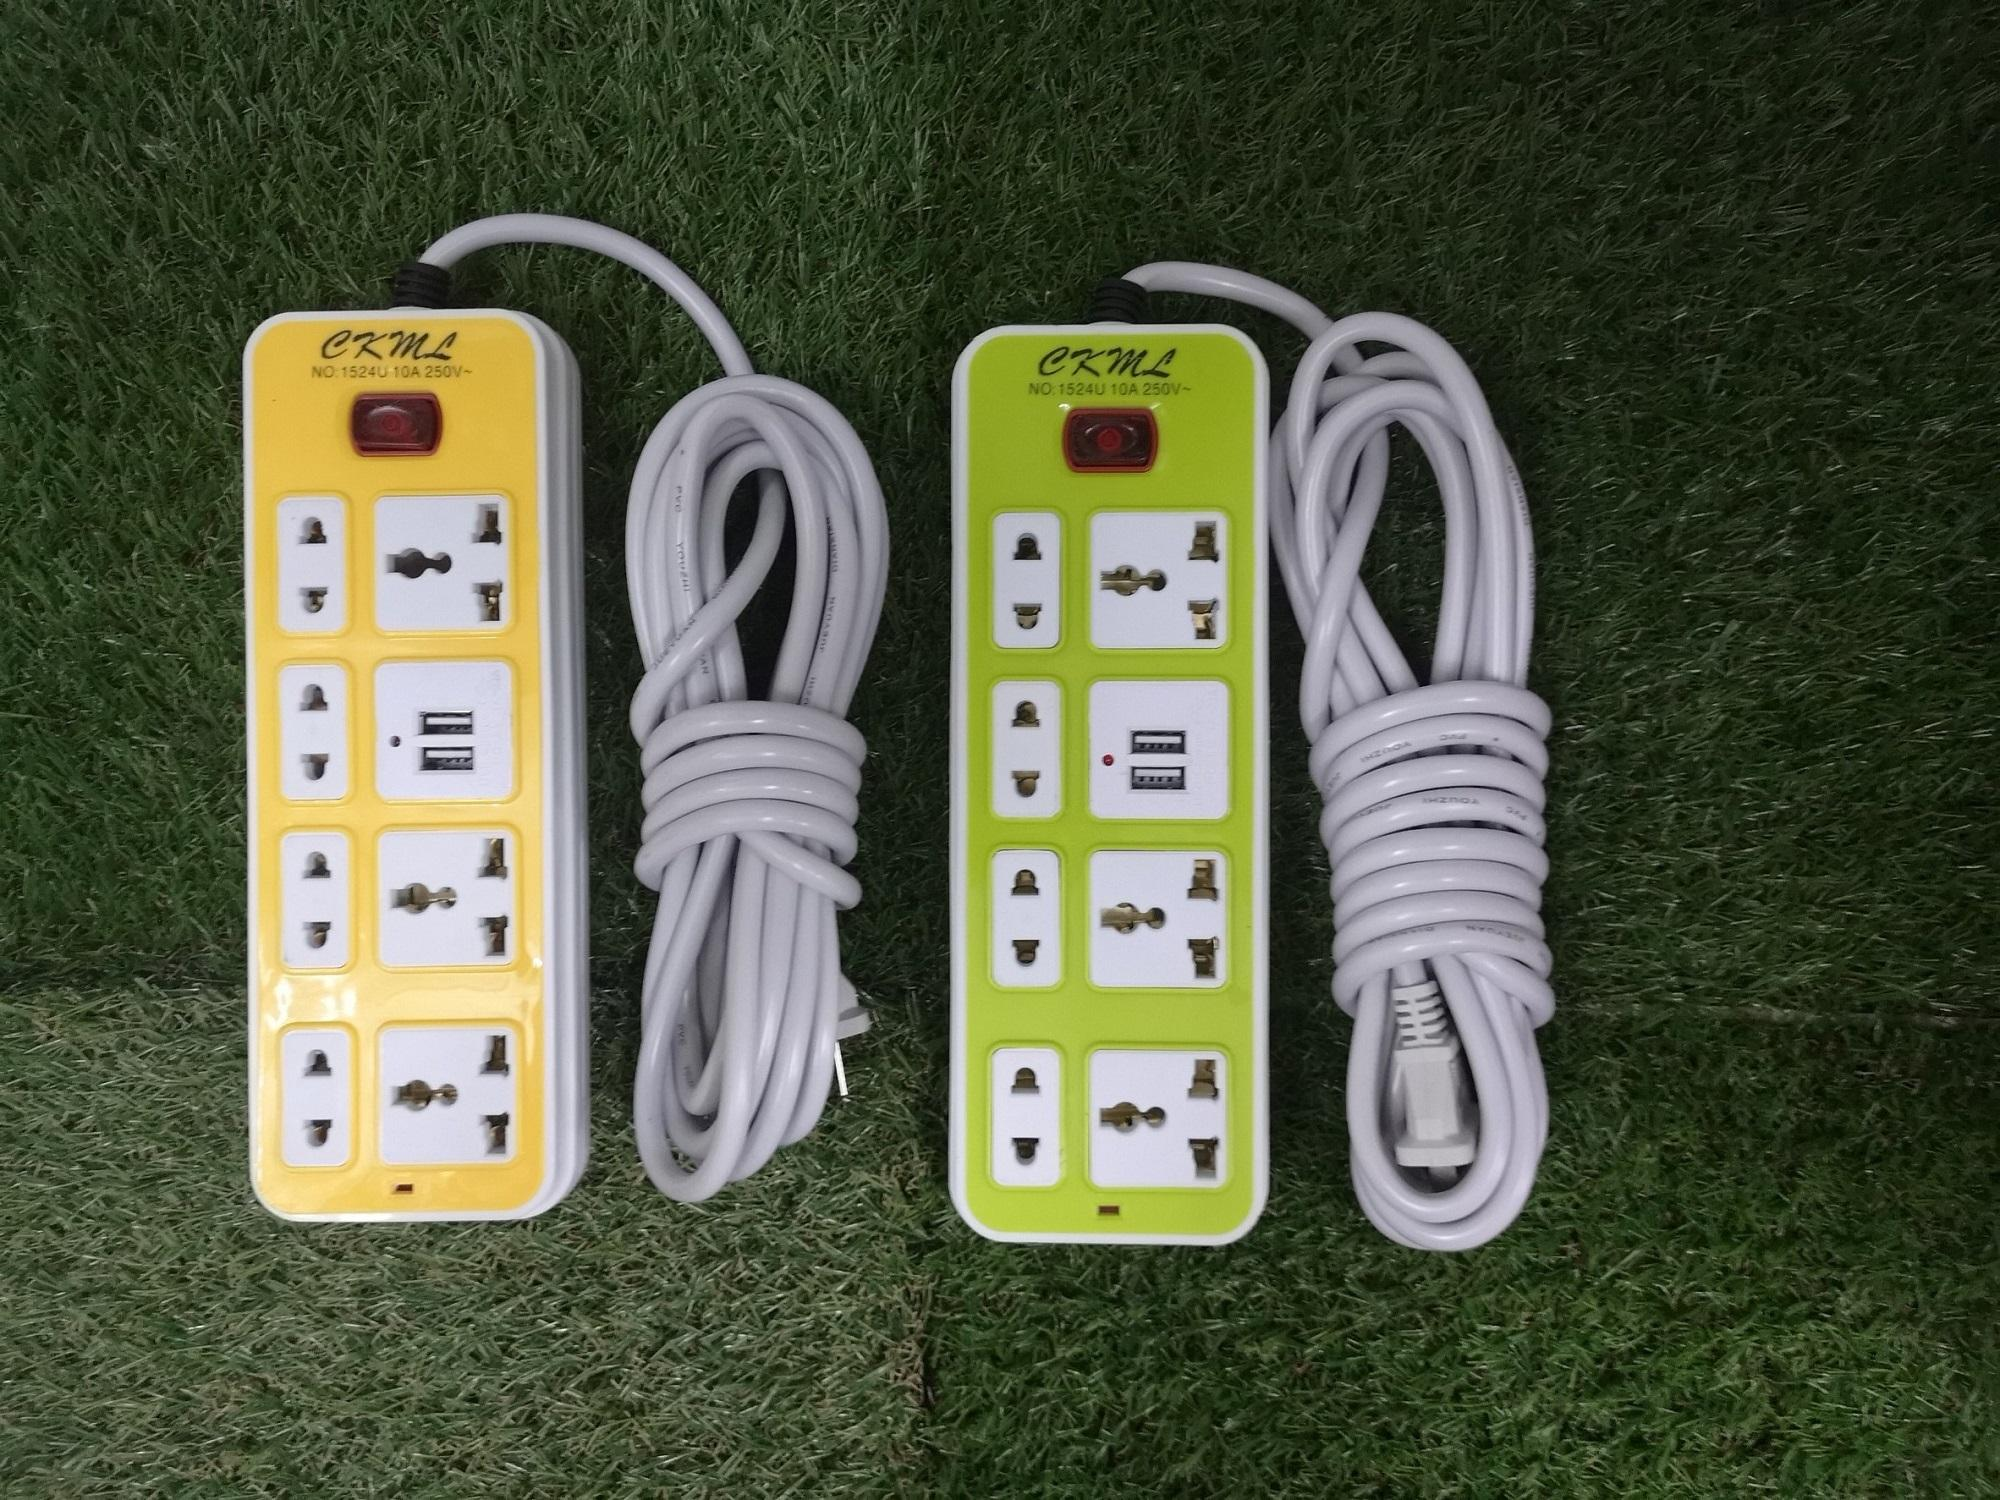Three_eye_plug: (898, 287, 1461, 1335), (192, 268, 639, 1237)
